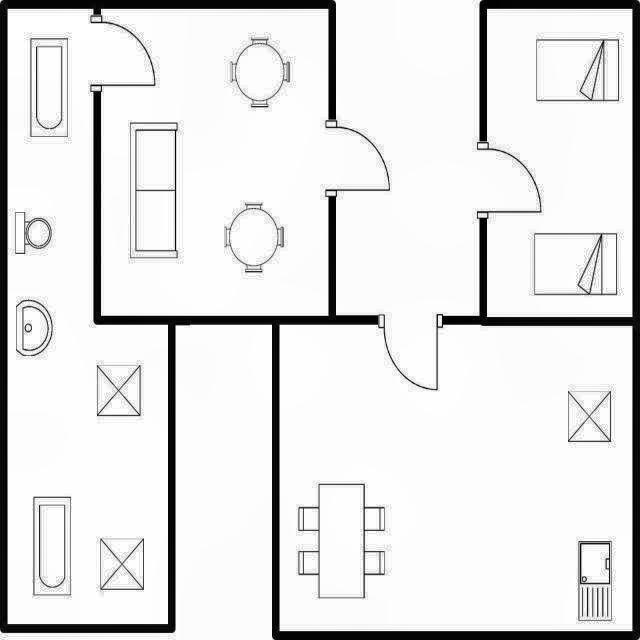room: (279, 325, 633, 631), (8, 9, 168, 624), (101, 8, 329, 316), (487, 9, 633, 317)
